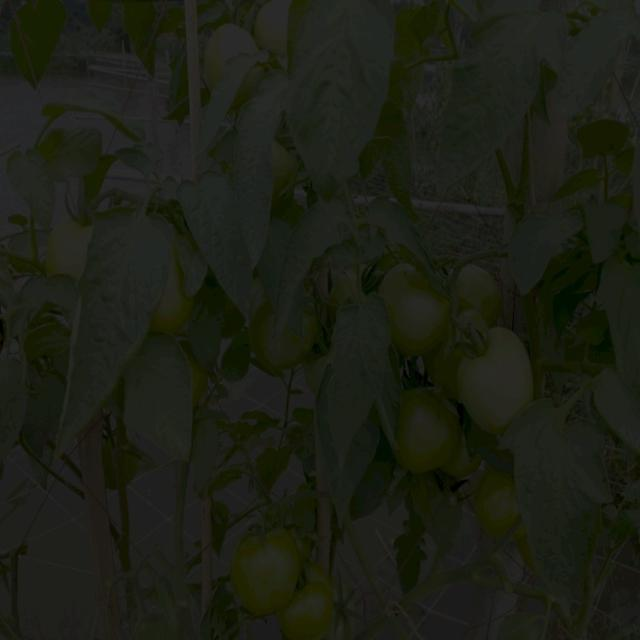tomato: (459, 336, 531, 424), (388, 259, 448, 360), (401, 384, 454, 477), (230, 542, 299, 612), (244, 319, 322, 375), (478, 464, 524, 554), (280, 574, 341, 638), (451, 268, 511, 331), (49, 216, 100, 275), (163, 255, 195, 335), (206, 27, 265, 68), (266, 138, 304, 196), (264, 1, 296, 58), (188, 363, 213, 408), (338, 590, 361, 633)
